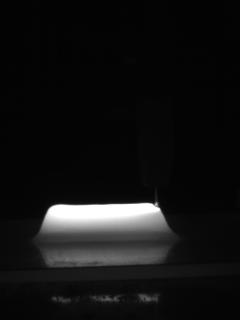tip_wire_left: (141, 183, 158, 207)
tip_wire_right: (155, 182, 169, 206)
